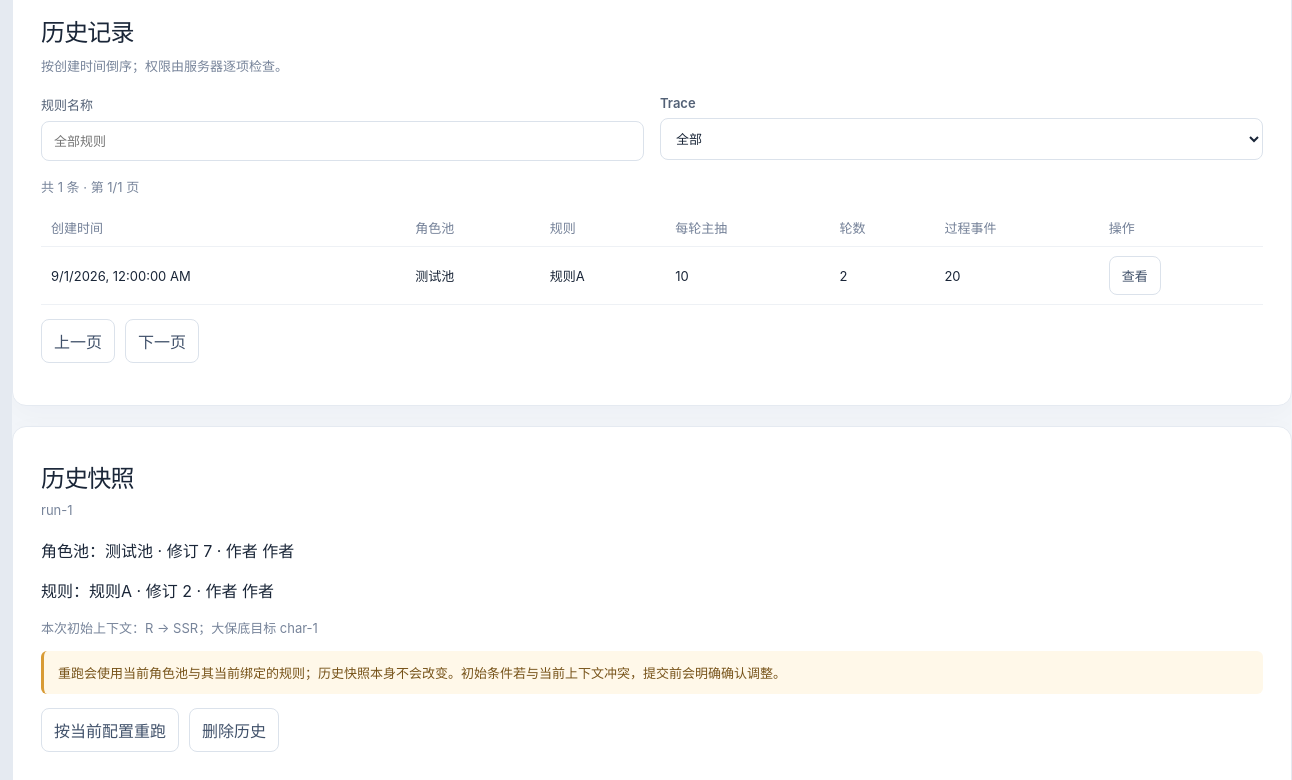
it: compares both revisions and initial context before submitting a rerun
Step 1. Click the button "按当前配置重跑" → (110, 730), box 41,708 -> 179,752
(page scrolled)
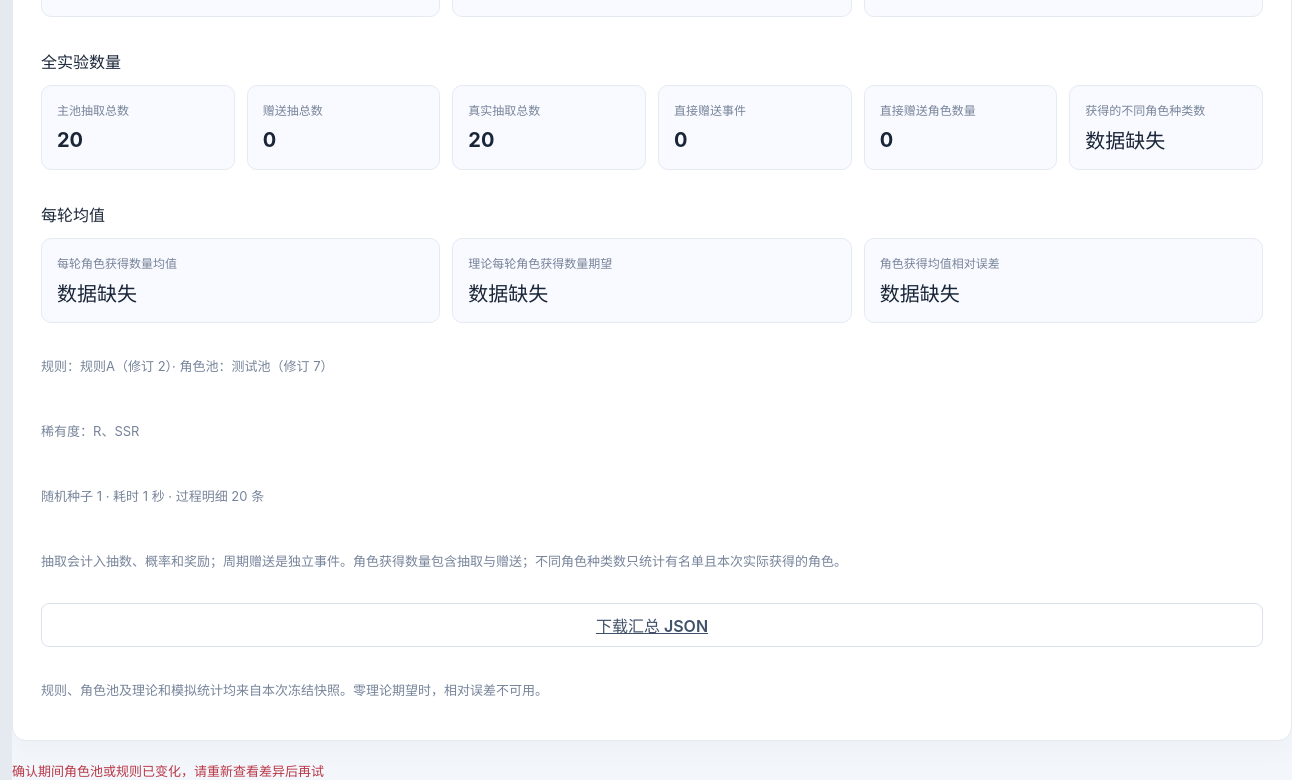
Expected: the message shows "确认期间角色池或规则已变化", 12,763 -> 324,779
